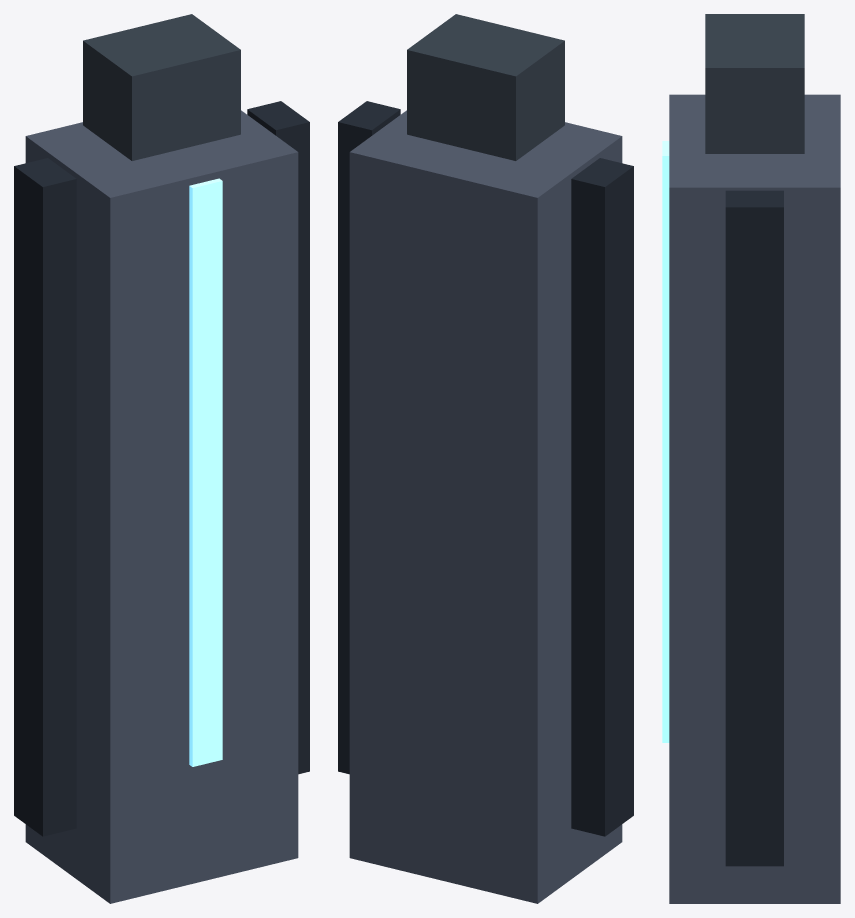
File: solitude-pillar-11.glb
3 renders of one model, left to right at view 1: azimuth 30°, elevation 25°; view 2: azimuth 150°, elevation 25°; view 3: azimuth 270°, elevation 25°, orthographic.
Visible parts, largest first — view 1: Solitude Pillar 11; view 2: Solitude Pillar 11; view 3: Solitude Pillar 11.
Part boxes in pixels (x1,y1,x2,y2): Solitude Pillar 11: (14,14,309,903); Solitude Pillar 11: (338,14,633,903); Solitude Pillar 11: (662,14,840,903).
Bounding box in the file's own units: 1.86 × 5.36 × 1.06.
